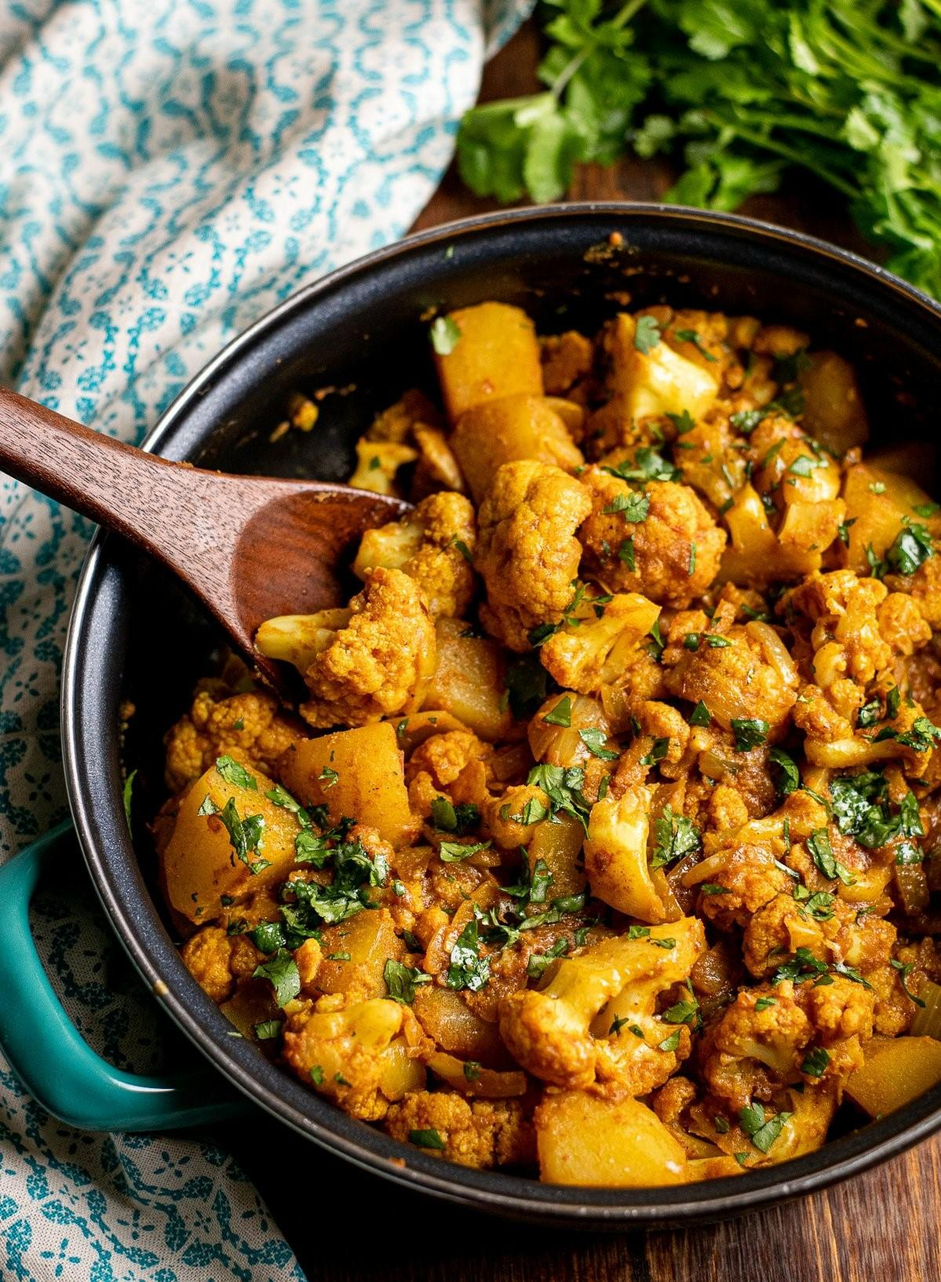AlooGobi: (163, 301, 941, 1188)
